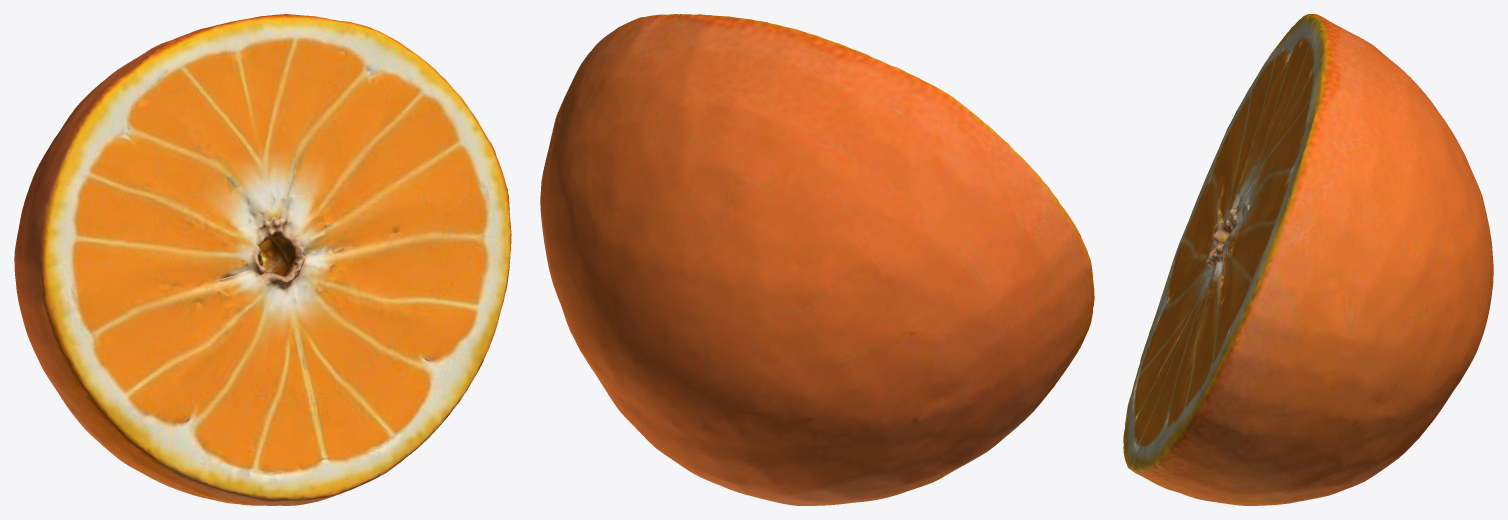
3 views of the same model, side by side, from view 1: azimuth 30°, elevation 25°; view 2: azimuth 150°, elevation 25°; view 3: azimuth 270°, elevation 25° (orthographic). The views are drawn at different scales.
Size of the model in its own units: 1.9 by 1.72 by 1.32.
Materials: 1 (1 with a texture image).
